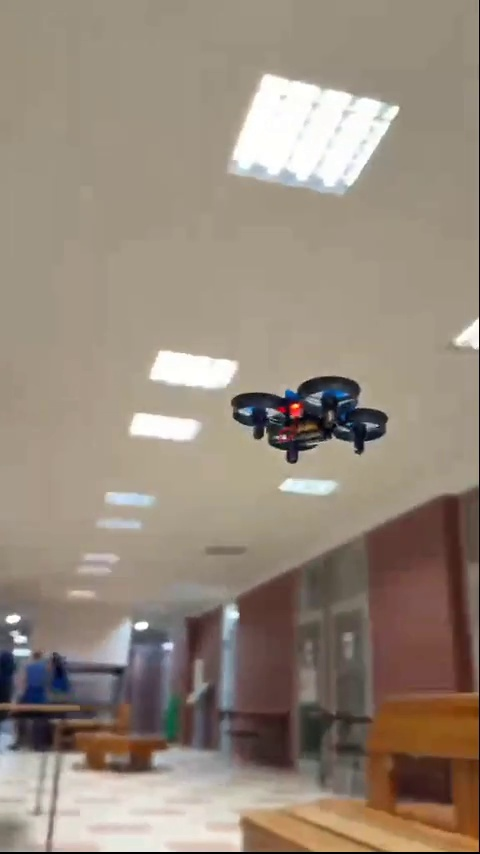drone: (231, 382, 402, 467)
no vest: (14, 641, 58, 713)
